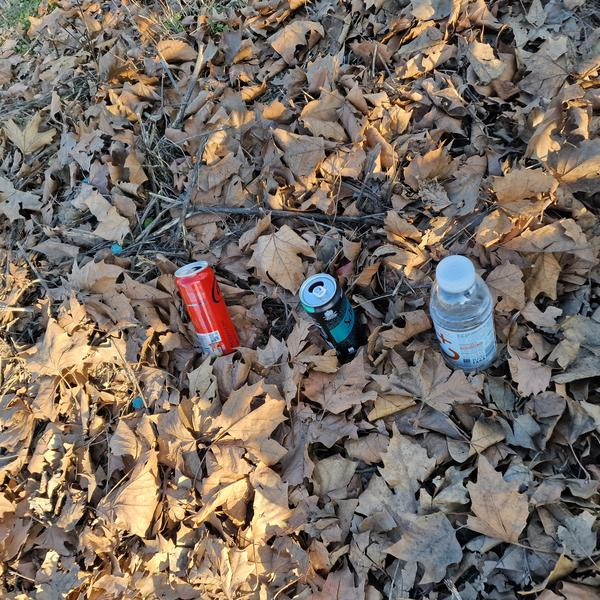can: (291, 265, 378, 370), (172, 256, 244, 362)
plastic_bottle: (422, 250, 501, 378)
